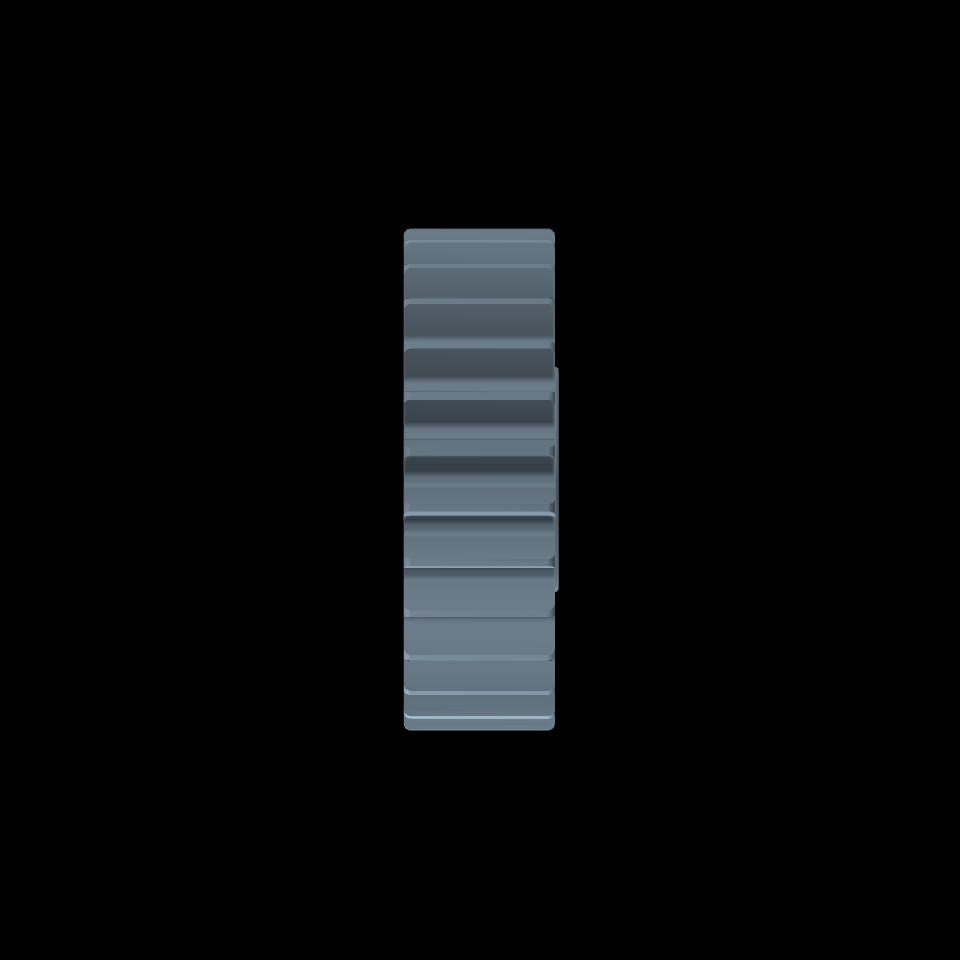Straight: (404, 229, 555, 729)
